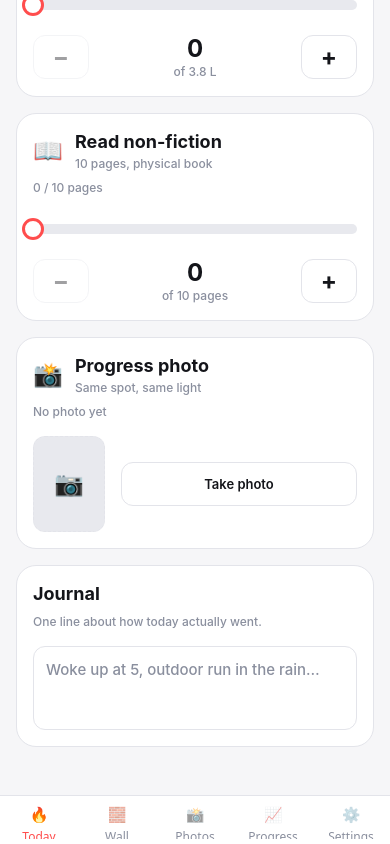
Test: TodayScreen: progress photo › attaches a photo once a source is chosen from the picker
This screenshot has width=390, height=844.
(page scrolled)
Expected: the text "Take photo" is shown, [204,475,274,493]
Click the button "Take photo": (239, 484) [121,462,357,506]
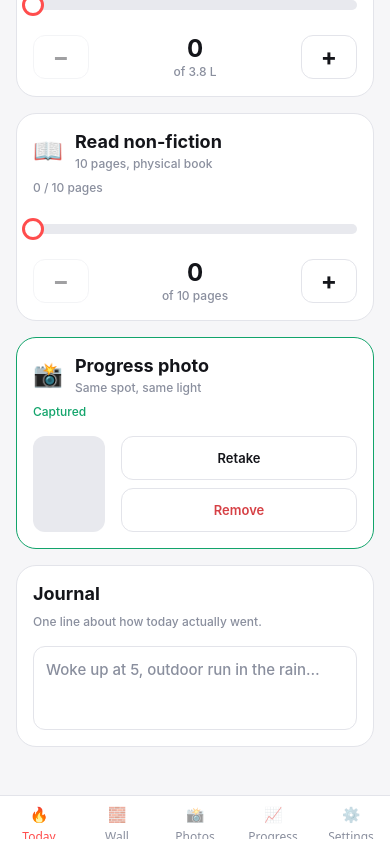
Expected: the text "Retake" is shown, [218,449,260,467]
